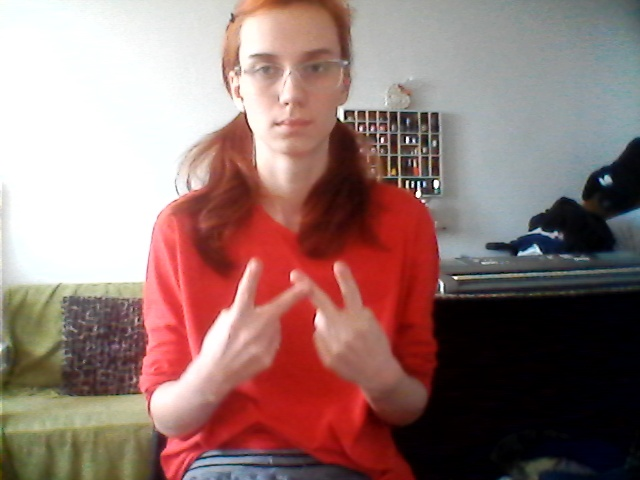w: (201, 250, 402, 389)
